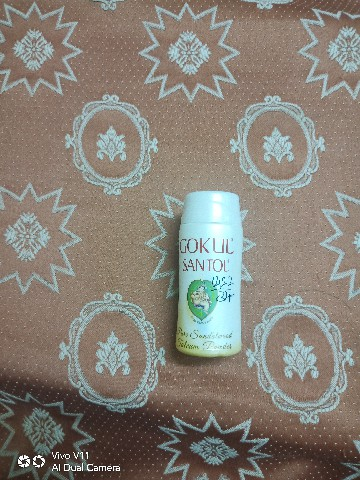gokulsantol small: (167, 178, 262, 383)
